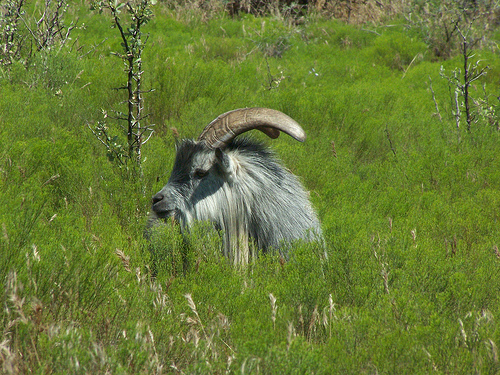goat: (144, 107, 332, 277)
